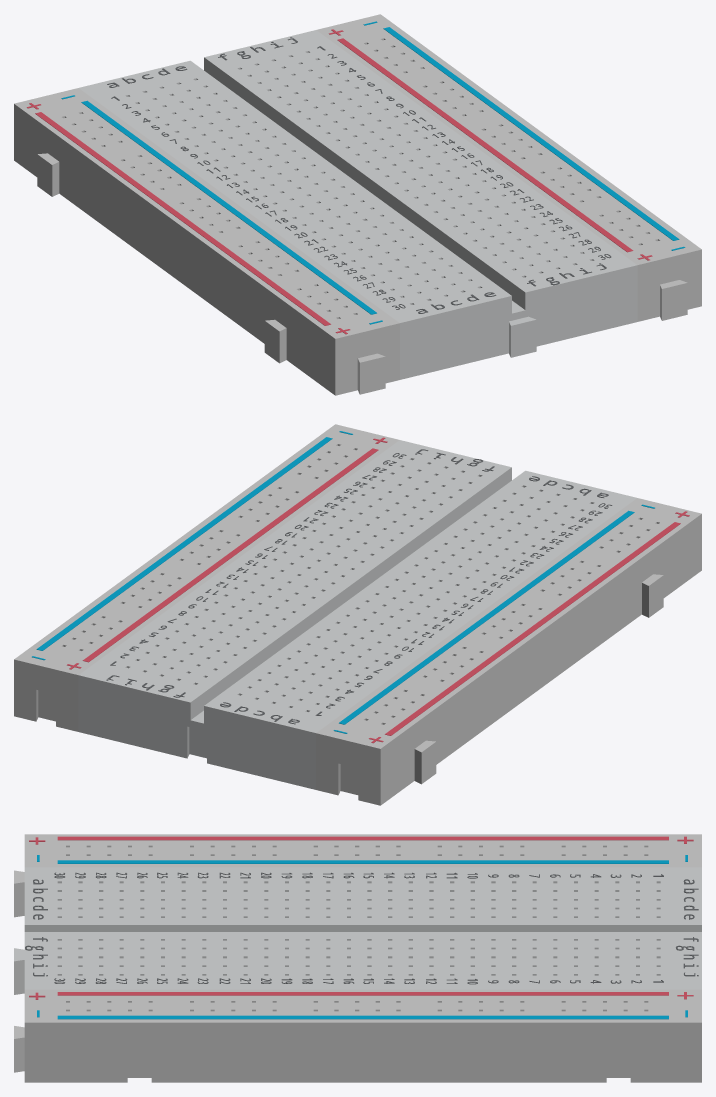
File: Breadboard_.glb
The picture shows the model from 3 angles, top to bottom: view 1: azimuth 30°, elevation 25°; view 2: azimuth 150°, elevation 25°; view 3: azimuth 270°, elevation 25°; orthographic projection. The views are drawn at different scales.
Parts seen in each view (by area): view 1: Mesh_Mesh_head_geo.001_lambert2SG.001; view 2: Mesh_Mesh_head_geo.001_lambert2SG.001; view 3: Mesh_Mesh_head_geo.001_lambert2SG.001.
Part boxes in pixels (box(x1,y1,x2,y2)): Mesh_Mesh_head_geo.001_lambert2SG.001: box(14, 14, 701, 395); Mesh_Mesh_head_geo.001_lambert2SG.001: box(14, 424, 701, 805); Mesh_Mesh_head_geo.001_lambert2SG.001: box(14, 834, 701, 1082).
Size of the model in its own units: 55.3 by 8.05 by 83.3.
